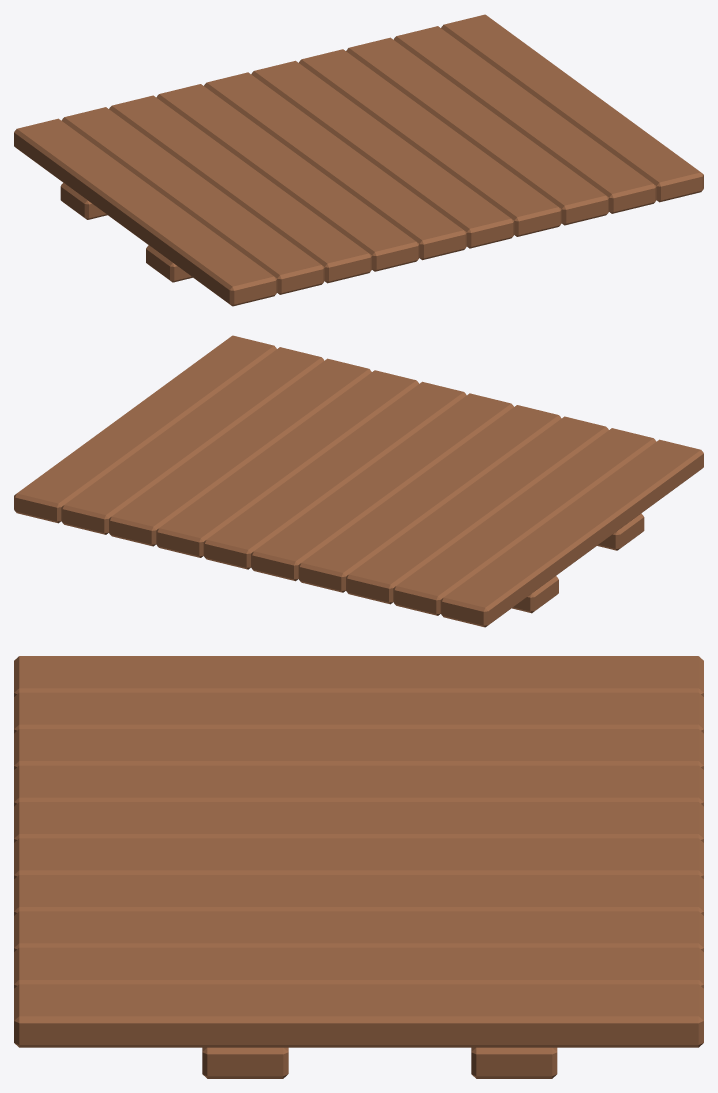
File: gate_2.glb
The picture shows the model from 3 angles, top to bottom: view 1: azimuth 30°, elevation 25°; view 2: azimuth 150°, elevation 25°; view 3: azimuth 270°, elevation 25°; orthographic projection. The views are drawn at different scales.
Visible parts, largest first — view 1: gate 2; view 2: gate 2; view 3: gate 2.
Part boxes in pixels (x1,y1,x2,y2): gate 2: [14, 14, 703, 306]; gate 2: [14, 335, 703, 627]; gate 2: [14, 656, 703, 1078].
Size of the model in its own units: 5 by 0.4 by 4.
